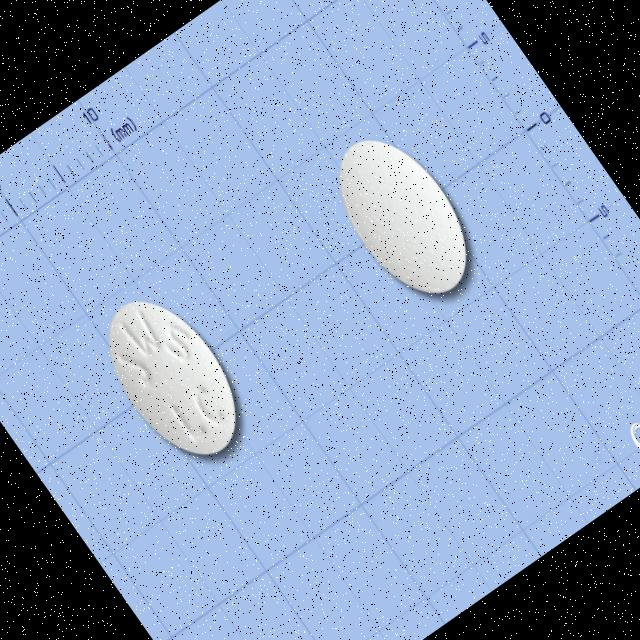Procin Tab: (84, 278, 262, 476)
